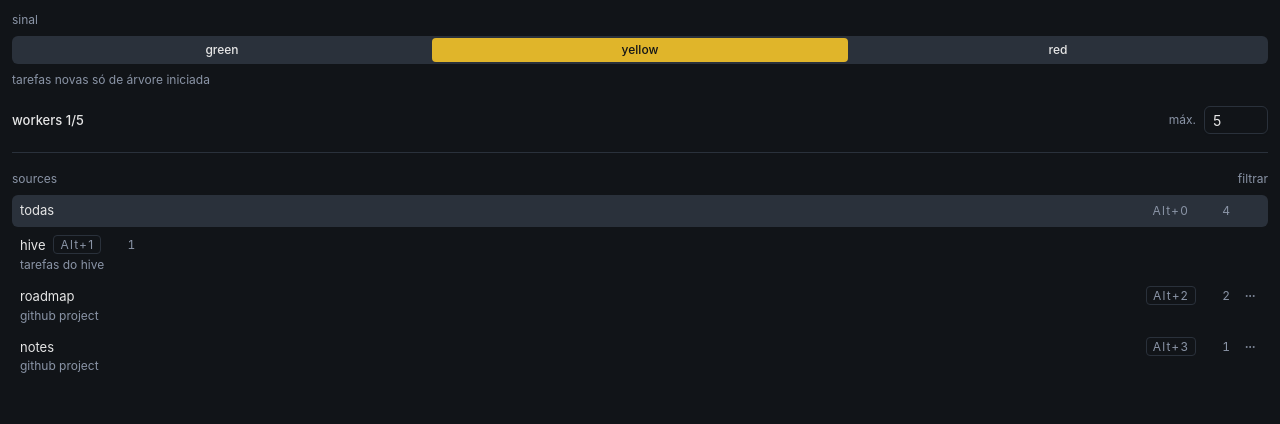
Scenario: filtrar opens a field that narrows the sources by name (redesign 09)
Click the button "filtrar" at point(1253, 179), box [1238,171,1268,187]
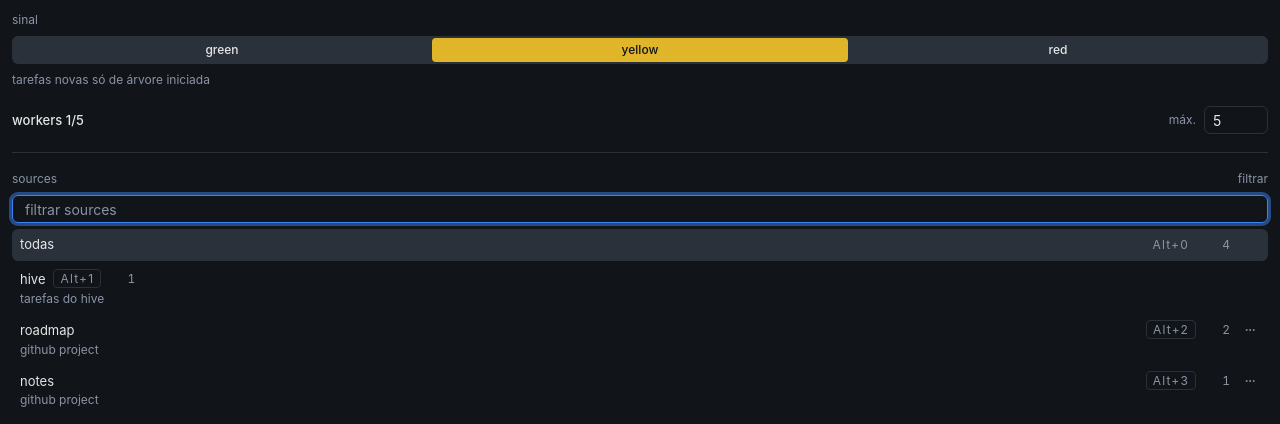
Type "ROAD" into the field labelled "filtrar sources" at point(640, 209), box [12,195,1268,223]
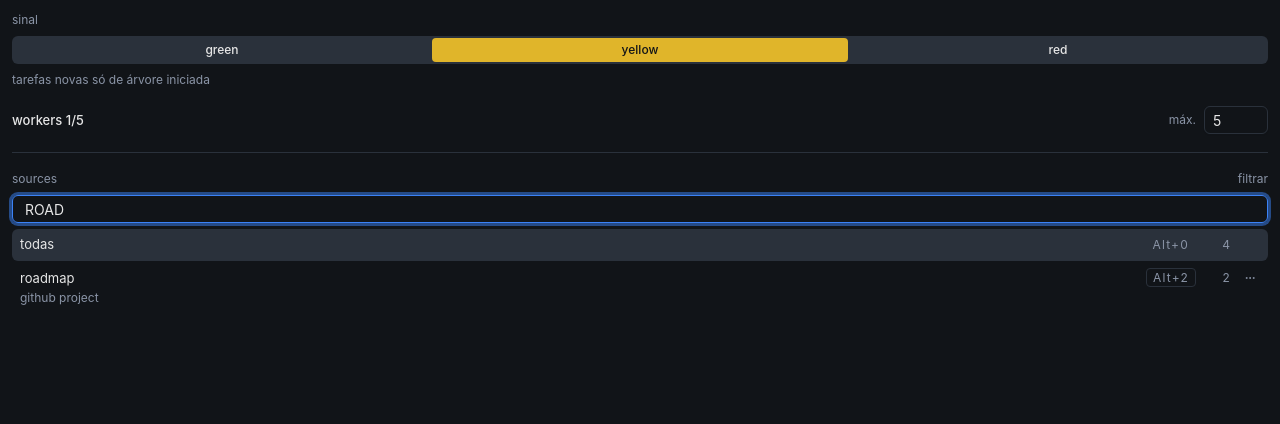
expect the text "roadmap" is shown: met, box [20,269,74,288]
expect the button "notes" is gone: met
